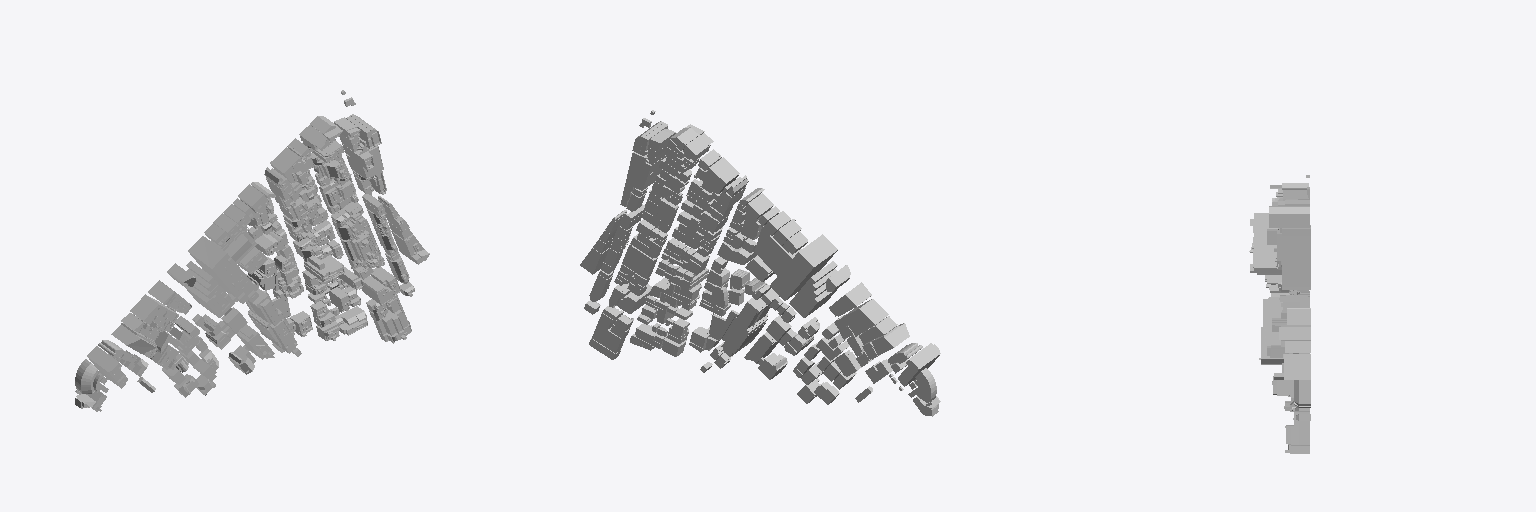
The model's file is 533945182_bldg_6677.obj.
3 views of the same model, side by side, from view 1: azimuth 30°, elevation 25°; view 2: azimuth 150°, elevation 25°; view 3: azimuth 270°, elevation 25° (orthographic).
Bounding box in the file's own units: 469 × 339 × 72.81.